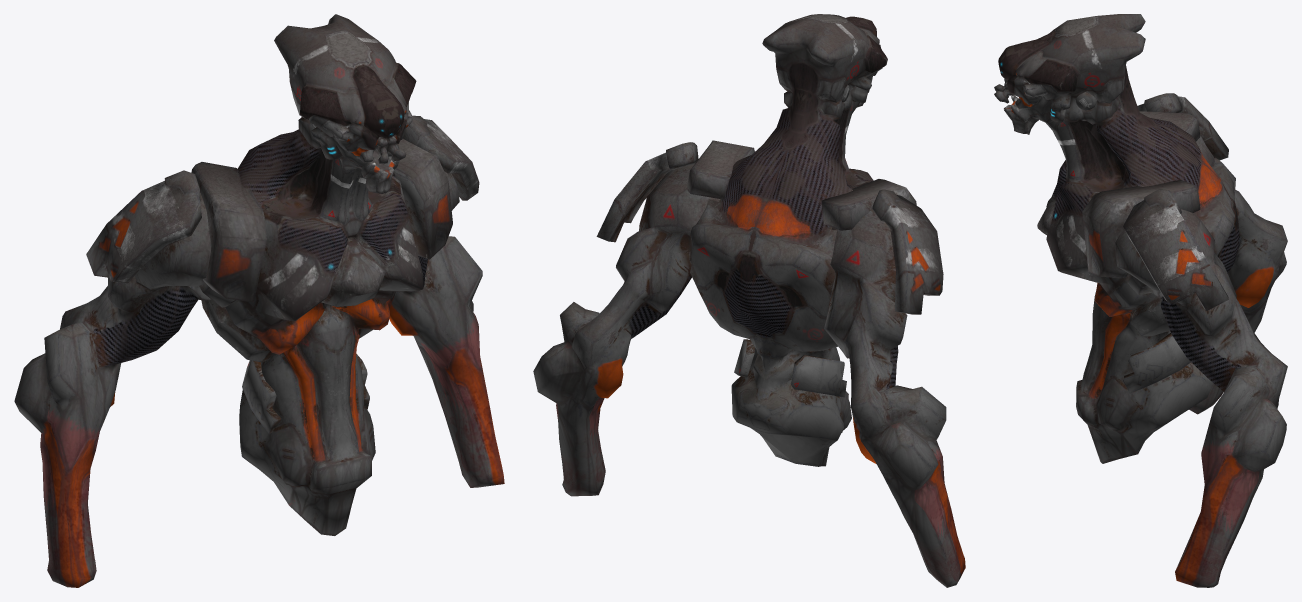
The model's file is zbrush_for_concept_-_mech_design_d.ver.glb.
The picture shows the model from 3 angles, left to right: view 1: azimuth 30°, elevation 25°; view 2: azimuth 150°, elevation 25°; view 3: azimuth 270°, elevation 25°; orthographic projection. The views are drawn at different scales.
Visible parts, largest first — view 1: g (×5); view 2: g (×5); view 3: g (×5).
Part boxes in pixels (bbox=[...]): g (×5): bbox=[14, 14, 504, 587]; g (×5): bbox=[533, 14, 965, 587]; g (×5): bbox=[994, 14, 1287, 587].
Size of the model in its own units: 1.73 by 2 by 1.11.
Materials: 1 (1 with a texture image).
